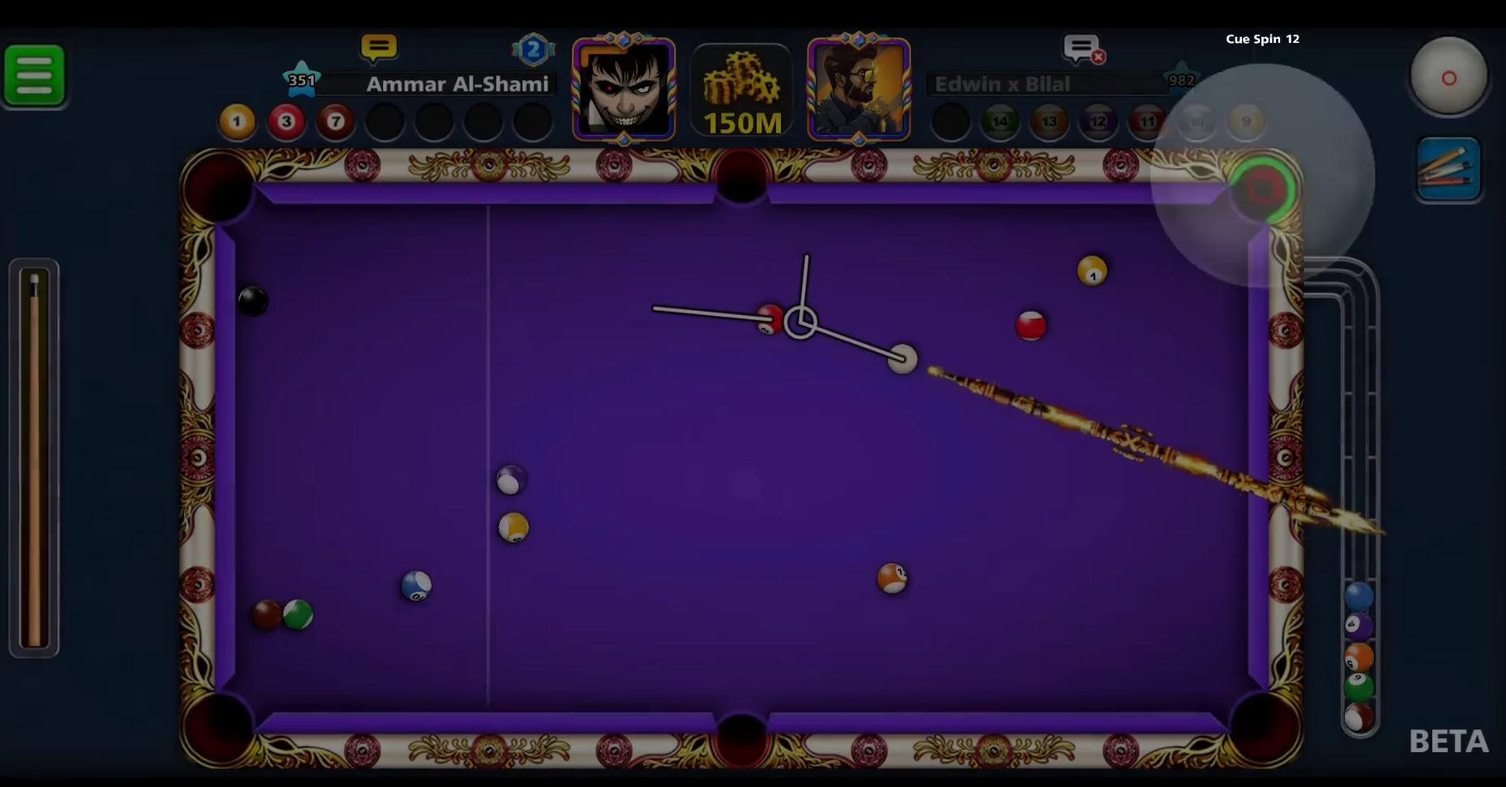Ball: (490, 502, 539, 553), (393, 562, 442, 612), (276, 589, 323, 638), (244, 590, 290, 637), (227, 282, 277, 323), (489, 460, 535, 501), (872, 557, 913, 601), (1073, 253, 1116, 288), (752, 300, 792, 336), (1009, 309, 1052, 341)
Force: (0, 257, 65, 658)
Guideline: (652, 253, 918, 374)
Hole: (1213, 679, 1311, 776), (176, 139, 265, 233), (174, 687, 267, 774), (695, 141, 784, 221), (702, 696, 783, 778)
Play_Area: (238, 204, 1250, 711)
Spin: (1405, 28, 1504, 129)
White: (879, 338, 927, 379)
